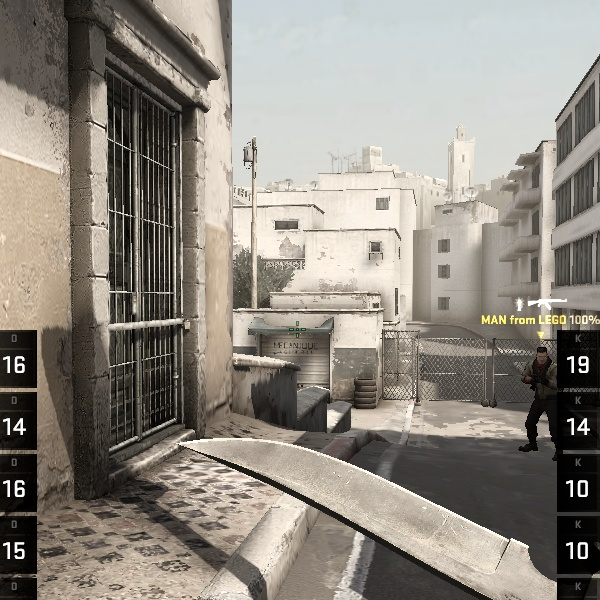t_body: (518, 347, 559, 452)
t_head: (536, 347, 548, 368)
